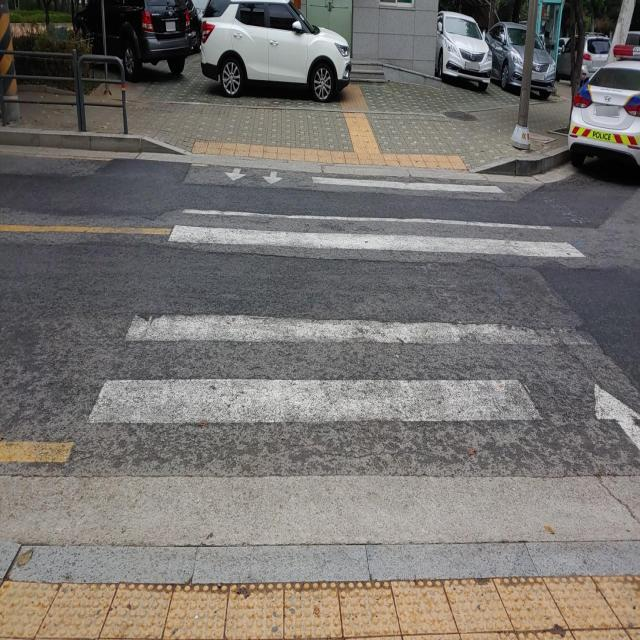횡단보도: (84, 164, 640, 458)
